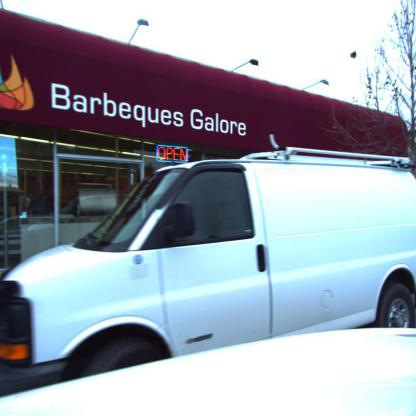truck: (0, 140, 416, 412)
